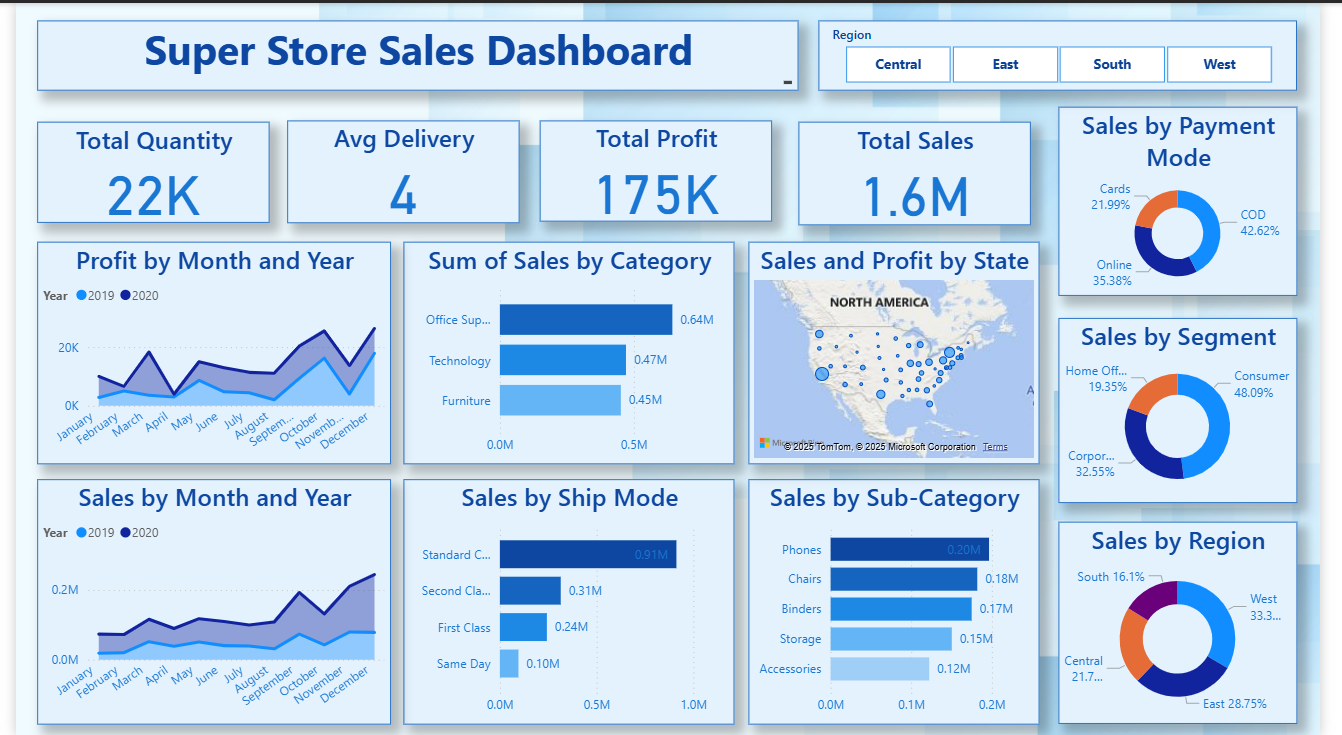

This screenshot's page, from the dashboard's own definition file:
{"tool":"powerbi","page":{"name":"Page 2","canvas":[1280,720],"ordinal":1},"visuals":[{"type":"card","title":"Total Profit","fields":{"Values":["Sum(SuperStore_Sales_Dataset.Profit)"]},"box":[514.1,115.3,228.2,99.4],"z":0},{"type":"card","title":"Total Quantity","fields":{"Values":["Sum(SuperStore_Sales_Dataset.Quantity)"]},"box":[20.9,116.6,228.2,99.4],"z":1000},{"type":"card","title":"Total Sales","fields":{"Values":["Sum(SuperStore_Sales_Dataset.Sales)"]},"box":[768.1,116.6,228.2,101.8],"z":2000},{"type":"card","title":"Avg Delivery","fields":{"Values":["Avg(SuperStore_Sales_Dataset.AvgDelivary)"]},"box":[266.3,115.3,228.2,100.6],"z":3000},{"type":"clusteredBarChart","fields":{"Y":["Sum(SuperStore_Sales_Dataset.Sales)"],"Category":["SuperStore_Sales_Dataset.Category"]},"box":[380.4,234.4,325.2,218.4],"z":4000},{"type":"clusteredBarChart","title":" Sales by Ship Mode","fields":{"Y":["Sum(SuperStore_Sales_Dataset.Sales)"],"Category":["SuperStore_Sales_Dataset.Ship Mode"]},"box":[380.4,467.5,325.2,240.5],"z":5000},{"type":"clusteredBarChart","title":" Sales by Sub-Category","fields":{"Y":["Sum(SuperStore_Sales_Dataset.Sales)"],"Category":["SuperStore_Sales_Dataset.Sub-Category"]},"box":[719,467.5,285.9,240.5],"z":6000},{"type":"donutChart","title":"Sales by Segment","fields":{"Y":["Sum(SuperStore_Sales_Dataset.Sales)"],"Category":["SuperStore_Sales_Dataset.Segment"]},"box":[1023.3,309.2,234.4,181.6],"z":7000},{"type":"donutChart","title":" Sales by Payment Mode","fields":{"Y":["Sum(SuperStore_Sales_Dataset.Sales)"],"Category":["SuperStore_Sales_Dataset.Payment Mode"]},"box":[1023.3,101.8,234.4,185.3],"z":8000},{"type":"stackedAreaChart","title":"Profit by Month and Year","fields":{"Category":["SuperStore_Sales_Dataset.Order Date.Variation.Date Hierarchy.Month","SuperStore_Sales_Dataset.Order Date.Variation.Date Hierarchy.Day"],"Series":["SuperStore_Sales_Dataset.Order Date.Variation.Date Hierarchy.Year"],"Y":["Sum(SuperStore_Sales_Dataset.Profit)"]},"box":[20.9,234.4,347.2,218.4],"z":9000},{"type":"stackedAreaChart","title":"Sales by Month and Year","fields":{"Y":["Sum(SuperStore_Sales_Dataset.Sales)"],"Category":["SuperStore_Sales_Dataset.Order Date.Variation.Date Hierarchy.Month","SuperStore_Sales_Dataset.Order Date.Variation.Date Hierarchy.Day"],"Series":["SuperStore_Sales_Dataset.Order Date.Variation.Date Hierarchy.Year"]},"box":[20.9,467.5,347.2,240.5],"z":10000},{"type":"slicer","fields":{"Values":["SuperStore_Sales_Dataset.Region"]},"box":[787.7,17.2,469.9,68.7],"z":11000},{"type":"map","title":" Sales and  Profit by State","fields":{"Category":["SuperStore_Sales_Dataset.State"],"Size":["Sum(SuperStore_Sales_Dataset.Sales)"]},"box":[719,234.4,285.9,218.4],"z":12000},{"type":"textbox","title":"Super Store Sales Dashboard","box":[20.9,17.2,747.2,68.7],"z":13000},{"type":"donutChart","title":" Sales by Region","fields":{"Y":["Sum(SuperStore_Sales_Dataset.Sales)"],"Category":["SuperStore_Sales_Dataset.Region"]},"box":[1023.3,509.2,234.4,198.8],"z":14000}]}

Visuals, with their boxes in screenshot pixels (x1, y1, x2, y2), scaled from the page's 1280x720 canvas onto the 1342x735 screenshot:
"Total Profit" card: <box>539,118,778,219</box>
"Total Quantity" card: <box>22,119,261,220</box>
"Total Sales" card: <box>805,119,1045,223</box>
"Avg Delivery" card: <box>279,118,518,220</box>
clusteredBarChart - Sum(SuperStore_Sales_Dataset.Sales) x SuperStore_Sales_Dataset.Category: <box>399,239,740,462</box>
" Sales by Ship Mode" clusteredBarChart: <box>399,477,740,723</box>
" Sales by Sub-Category" clusteredBarChart: <box>754,477,1054,723</box>
"Sales by Segment" donutChart: <box>1073,316,1319,501</box>
" Sales by Payment Mode" donutChart: <box>1073,104,1319,293</box>
"Profit by Month and Year" stackedAreaChart: <box>22,239,386,462</box>
"Sales by Month and Year" stackedAreaChart: <box>22,477,386,723</box>
slicer - SuperStore_Sales_Dataset.Region: <box>826,18,1319,88</box>
" Sales and  Profit by State" map: <box>754,239,1054,462</box>
"Super Store Sales Dashboard" textbox: <box>22,18,805,88</box>
" Sales by Region" donutChart: <box>1073,520,1319,723</box>
